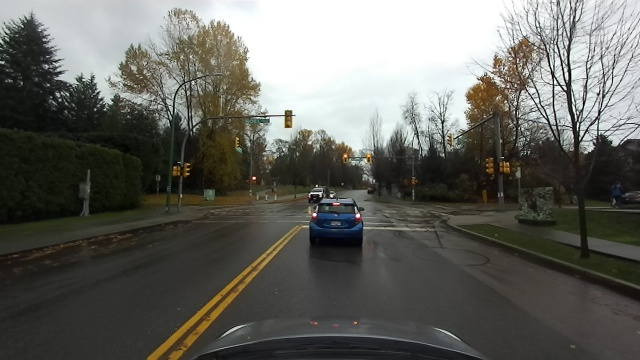car: (307, 196, 369, 243), (306, 184, 338, 200), (367, 187, 374, 194)
